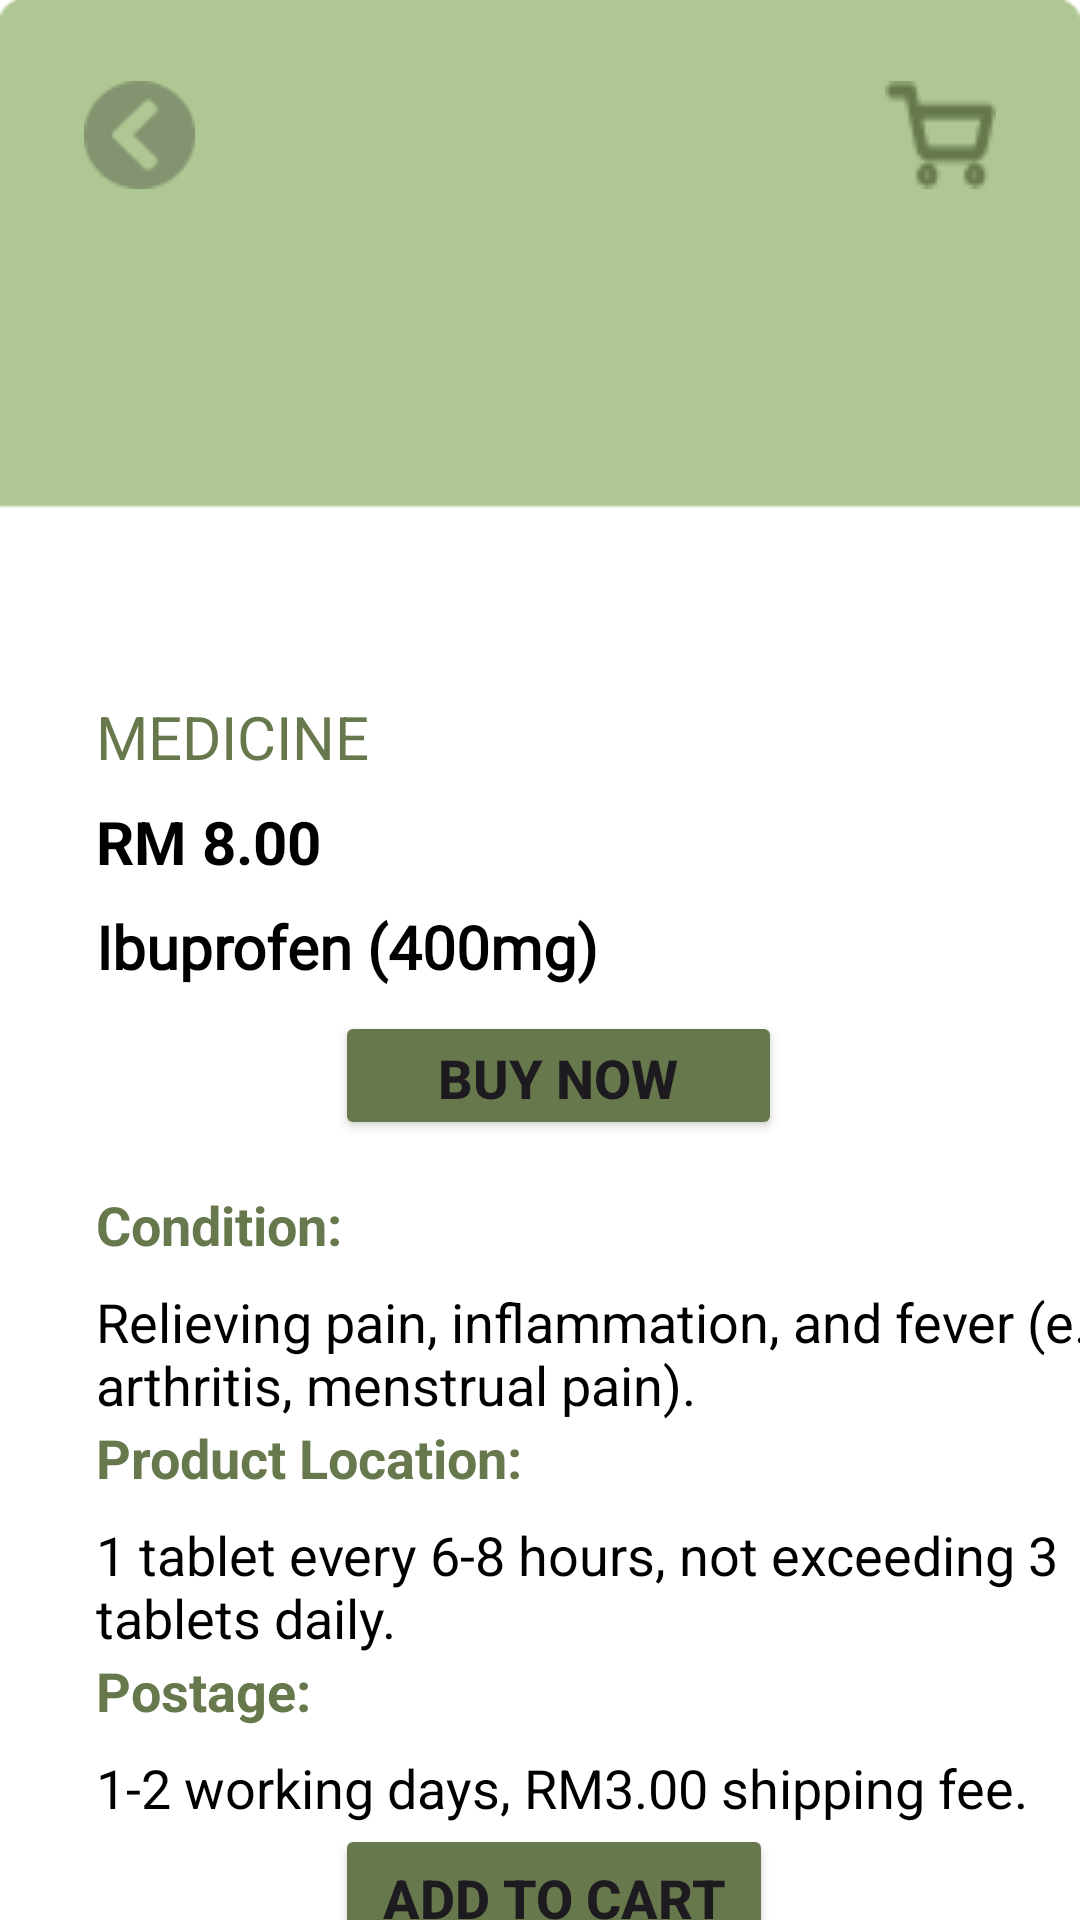

Screen size 1080*1920. Icon name, then its center in pixels as (x=x, y=y):
back: (x=139, y=135)
cart darkgreen: (x=940, y=135)
